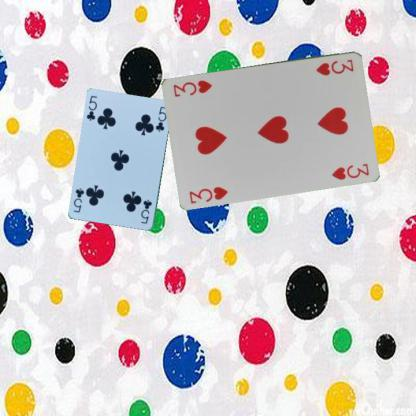3h: (186, 183, 230, 205), (313, 56, 355, 77)
5c: (84, 93, 98, 122), (139, 197, 153, 225)
